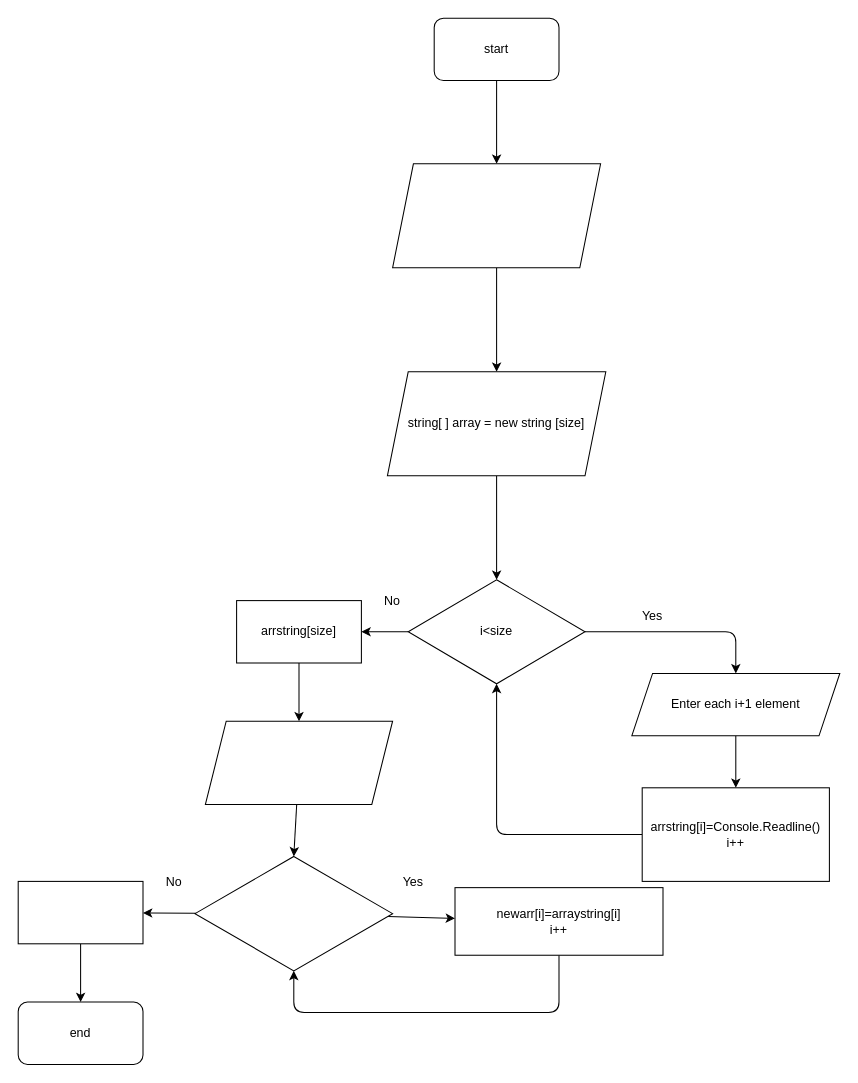
Image size: 858x1083. Some labels were removed from this diagram. The shapes that lost their labels are listed below. From the top down, each one's box as (x1, y1, x2, y2) in pixels, then its label:
(392, 163, 601, 268): User input size of an array
(204, 720, 393, 804): newSize=rnd.Next(min,max) newarray[newSize]
(17, 880, 143, 944): Print newarr[newSize]
(194, 855, 393, 971): i<newSize
